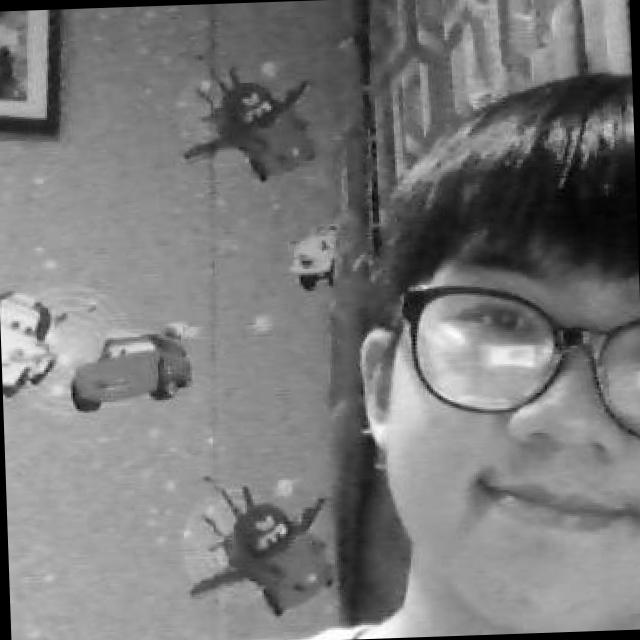Focused: (346, 77, 640, 639)
